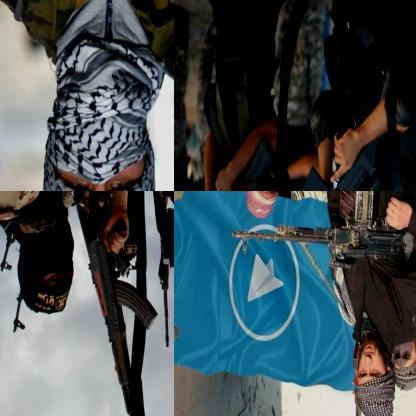rifle: (85, 219, 158, 415), (232, 191, 415, 269), (240, 139, 383, 190), (174, 143, 267, 190)
